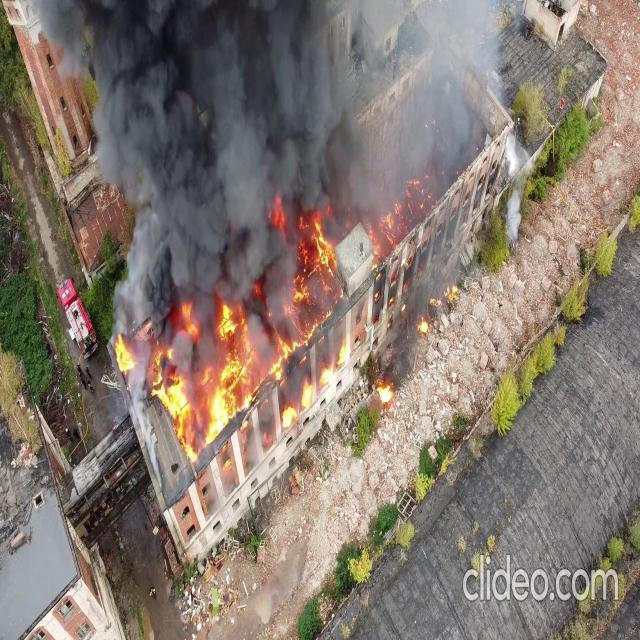Fire: (148, 296, 321, 458), (306, 214, 338, 286), (113, 332, 137, 379), (370, 375, 398, 407)
Smoke: (70, 0, 332, 318), (334, 0, 496, 210), (501, 137, 524, 239)
